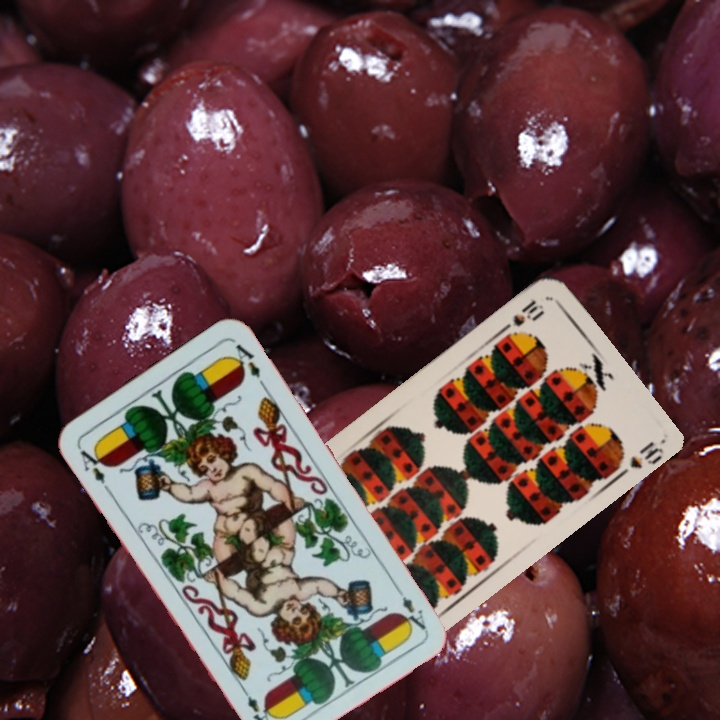EA: (390, 582, 429, 633), (74, 442, 110, 487)
S10: (497, 295, 546, 335)
